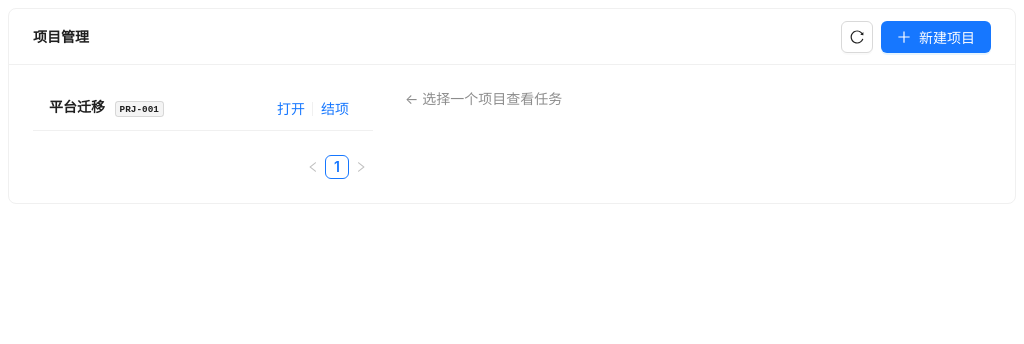
it: ProjectPage › 点"打开"加载项目任务列表
Click the link "打开" at (291, 108), box 277,100 -> 305,117
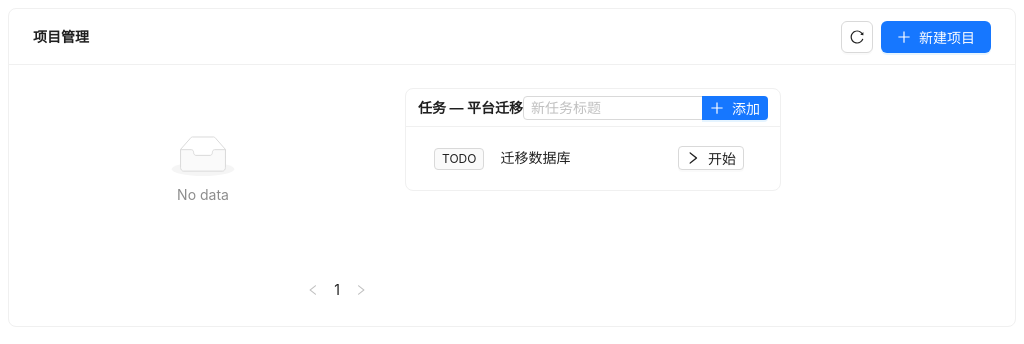
Check: the text "迁移数据库" is shown, box 500,147 -> 570,169
